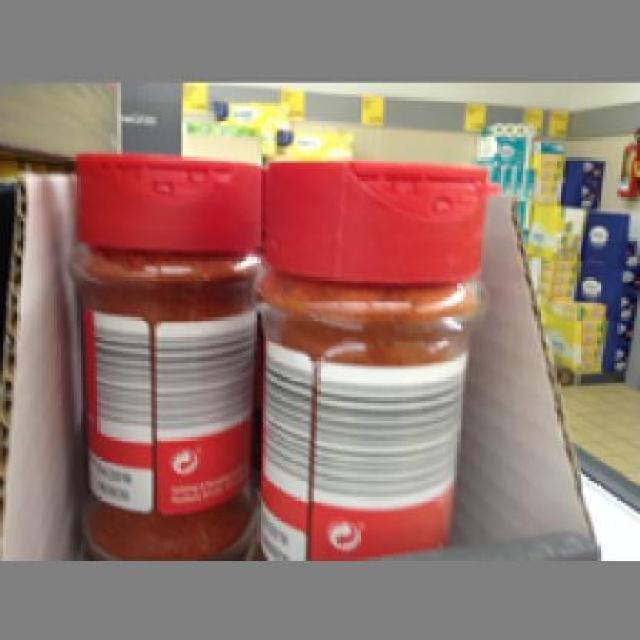Spices: (257, 154, 486, 557), (69, 148, 258, 554)
